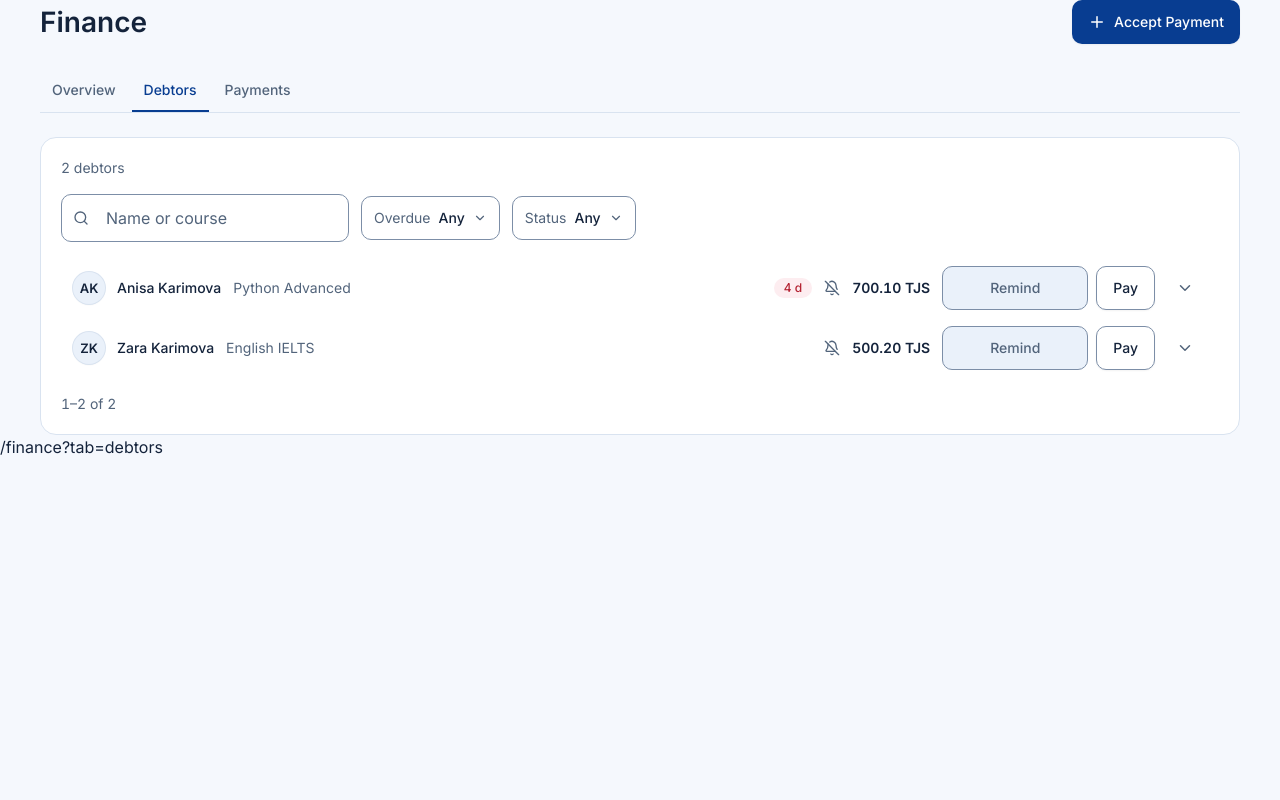
Test: Debtors rows › opens details with the five definitions, never labelling settled amounts as paid, and keeps them open across payment
Expected: the text "Anisa Karimova" is shown, [117,278,221,298]
Step 1. Click the button named "Details for Anisa Karimova, Python Advanced" → (1185, 288), box [1163,266,1207,310]
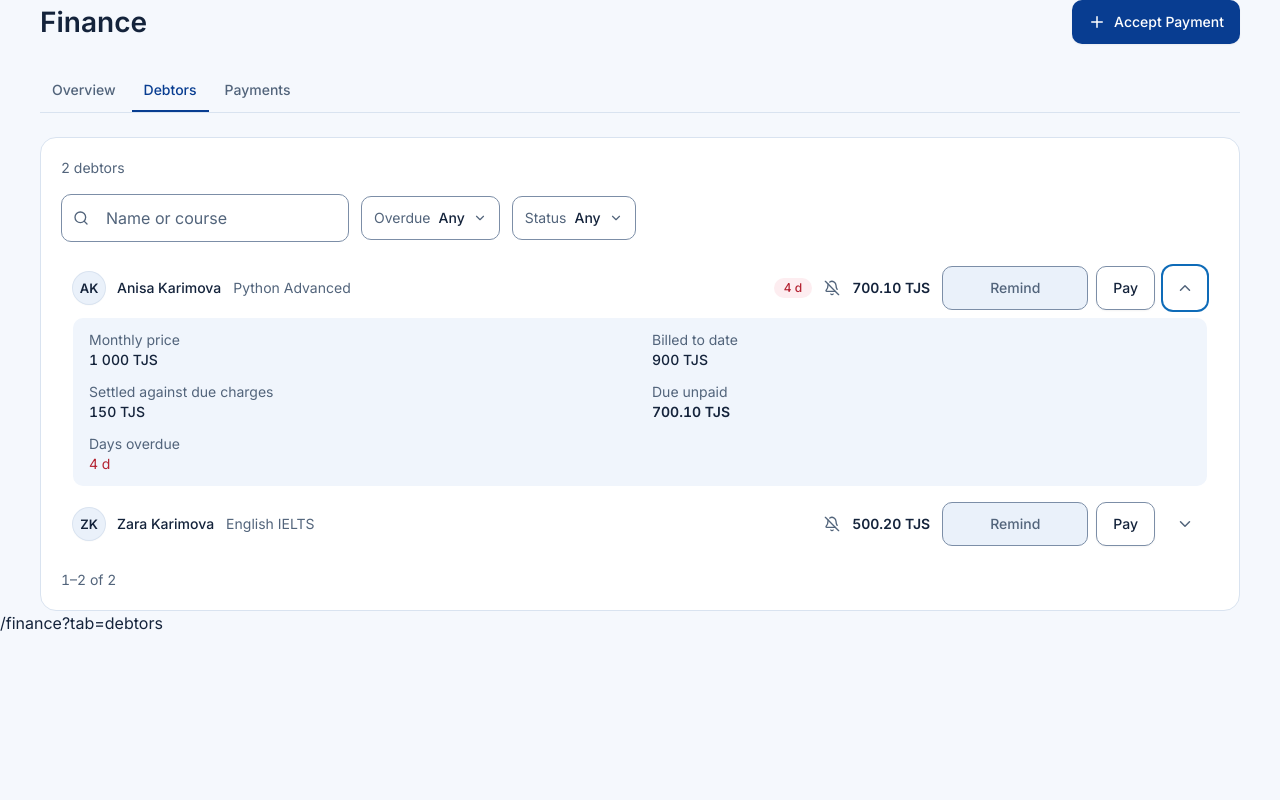
Result: the button named "Details for Anisa Karimova, Python Advanced" is expanded at [1163,266,1207,310]
Result: the text "Monthly price" is shown at [89,331,180,348]
Result: the text "Billed to date" is shown at [652,331,738,348]
Step 2. Click the button with aria-label "Accept payment for Anisa Karimova, Python Advanced" → (1126, 288), box [1096,266,1155,310]
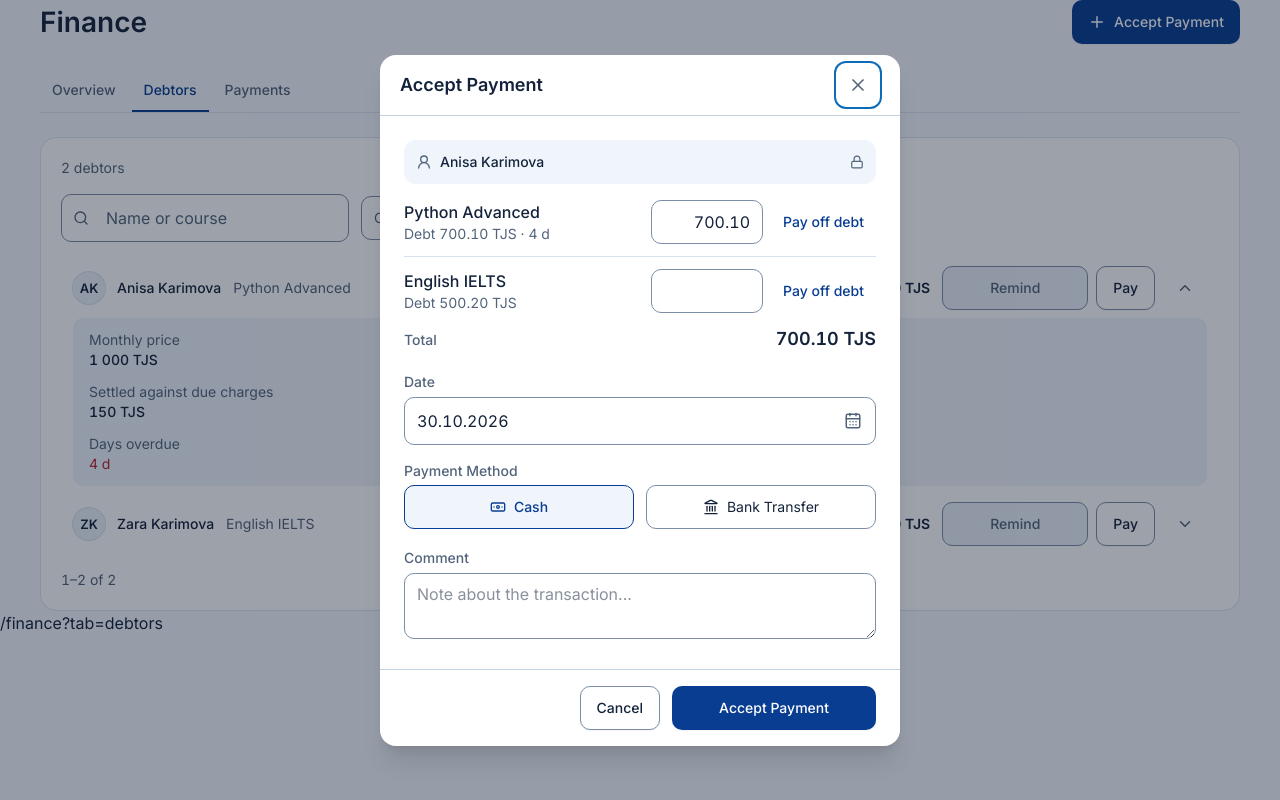
Step 3. Click the button "Cancel" → (620, 708), box [580,686,660,730]
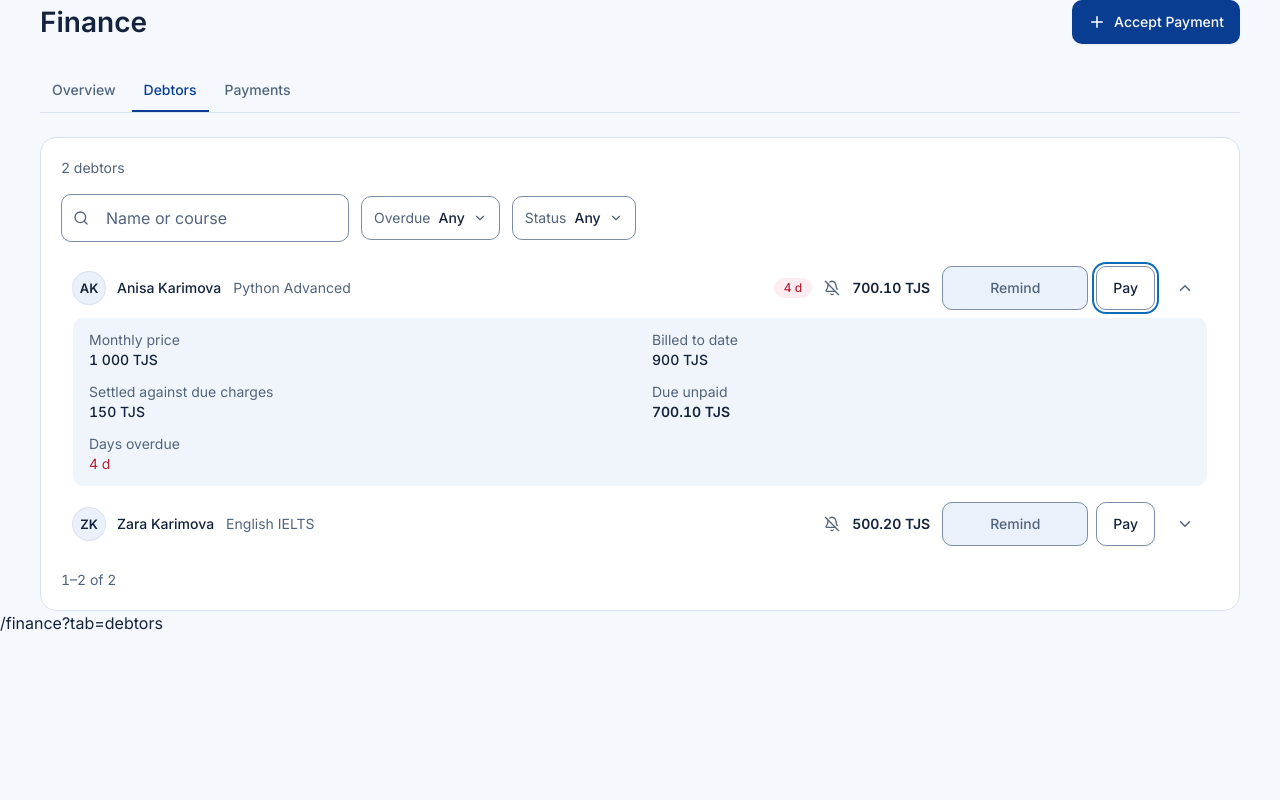
Result: the button named "Details for Anisa Karimova, Python Advanced" is expanded at [1163,266,1207,310]
Result: the text "Monthly price" is shown at [89,331,180,348]
Result: the dialog is gone
